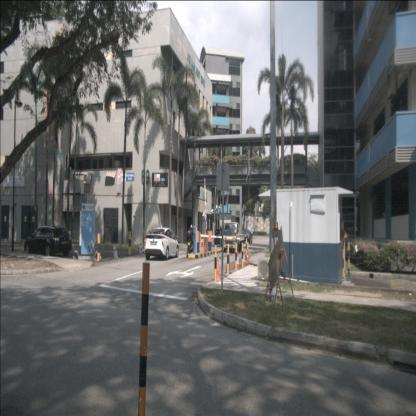cone: (214, 255, 223, 282), (225, 253, 232, 273), (240, 250, 246, 268), (235, 251, 240, 271), (245, 249, 249, 265)
